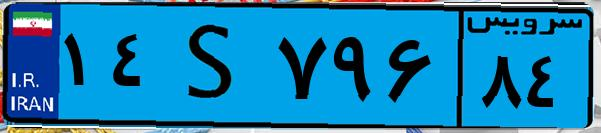1: (57, 26, 110, 100)
4: (525, 38, 570, 115), (110, 28, 158, 98)
6: (385, 28, 445, 110)
7: (270, 28, 330, 110)
8: (475, 38, 525, 113)
9: (330, 28, 385, 110)
S: (158, 12, 270, 120)
